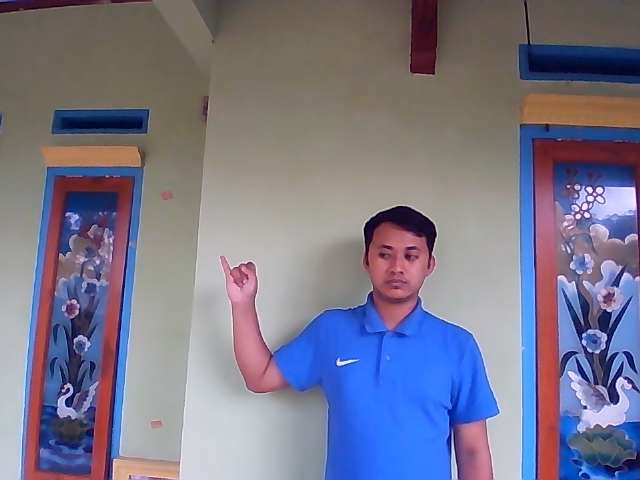I: (219, 254, 260, 303)
